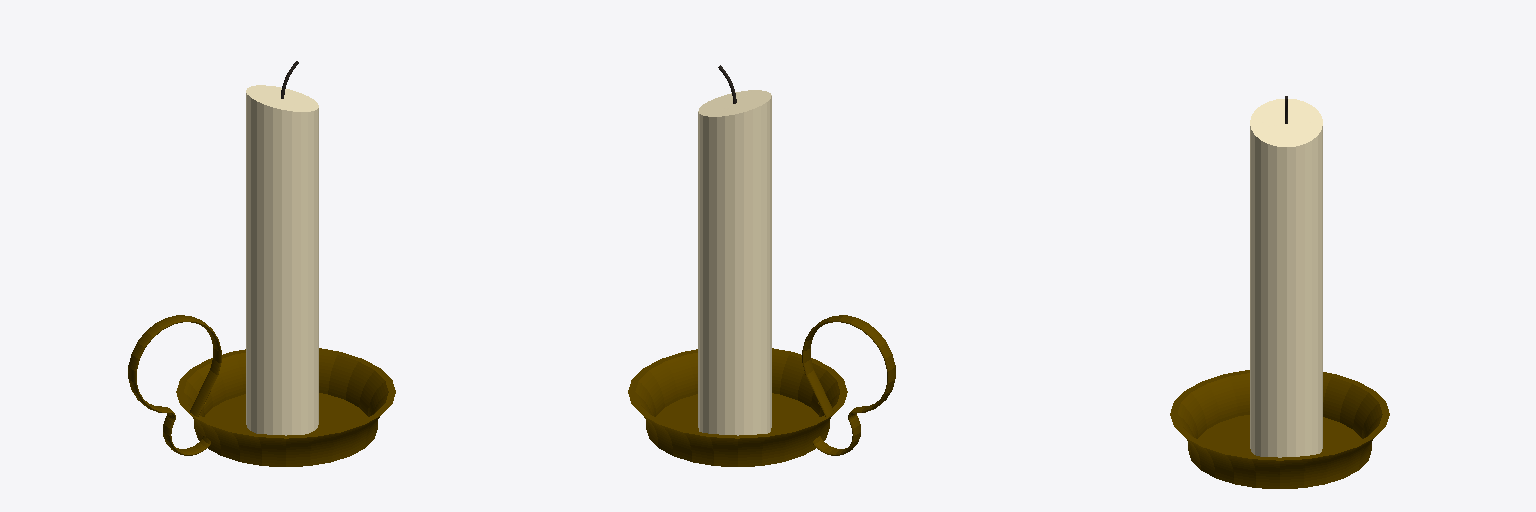
File: candle_oldfashioned_holder.obj
3 renders of one model, left to right at view 1: azimuth 30°, elevation 25°; view 2: azimuth 150°, elevation 25°; view 3: azimuth 270°, elevation 25°, orthographic.
Parts seen in each view (by area): view 1: Mesh4 candle1 candle_1_1 Model, Mesh3 candle_holder1 candle_1_1 Model, Mesh1 candle_holder1 candle_1_1 Model; view 2: Mesh4 candle1 candle_1_1 Model, Mesh3 candle_holder1 candle_1_1 Model, Mesh1 candle_holder1 candle_1_1 Model; view 3: Mesh4 candle1 candle_1_1 Model, Mesh3 candle_holder1 candle_1_1 Model.
Boxes of the visible parts, box(x1,y1,x2,y2) form: Mesh4 candle1 candle_1_1 Model: box(246, 61, 318, 435); Mesh3 candle_holder1 candle_1_1 Model: box(176, 348, 395, 466); Mesh1 candle_holder1 candle_1_1 Model: box(128, 315, 221, 455); Mesh4 candle1 candle_1_1 Model: box(698, 65, 771, 435); Mesh3 candle_holder1 candle_1_1 Model: box(628, 348, 847, 466); Mesh1 candle_holder1 candle_1_1 Model: box(802, 315, 895, 455); Mesh4 candle1 candle_1_1 Model: box(1250, 96, 1322, 457); Mesh3 candle_holder1 candle_1_1 Model: box(1170, 370, 1389, 488).
Size of the model in its own units: 94.78 by 132 by 72.